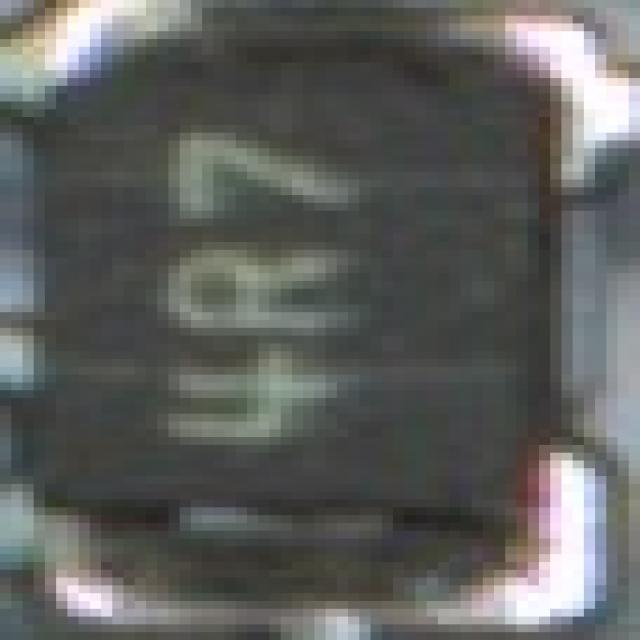inductor F1: (31, 21, 627, 612)
